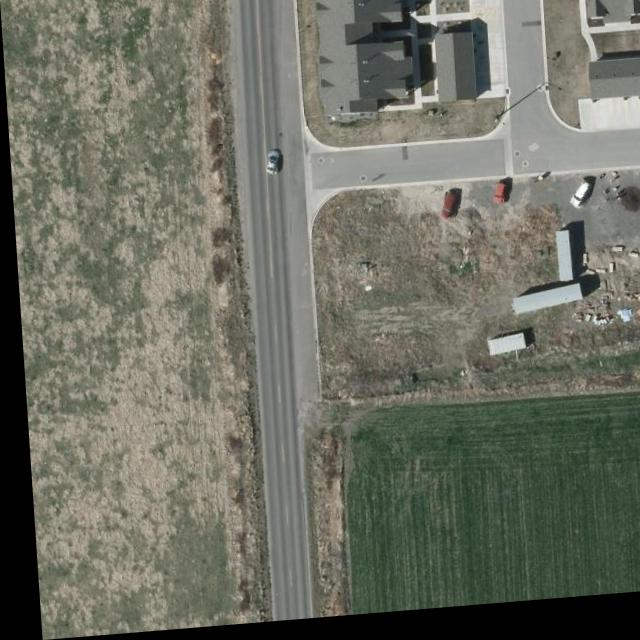vehicle: (565, 187, 591, 220), (437, 198, 457, 229), (263, 155, 278, 180), (490, 191, 504, 214)
